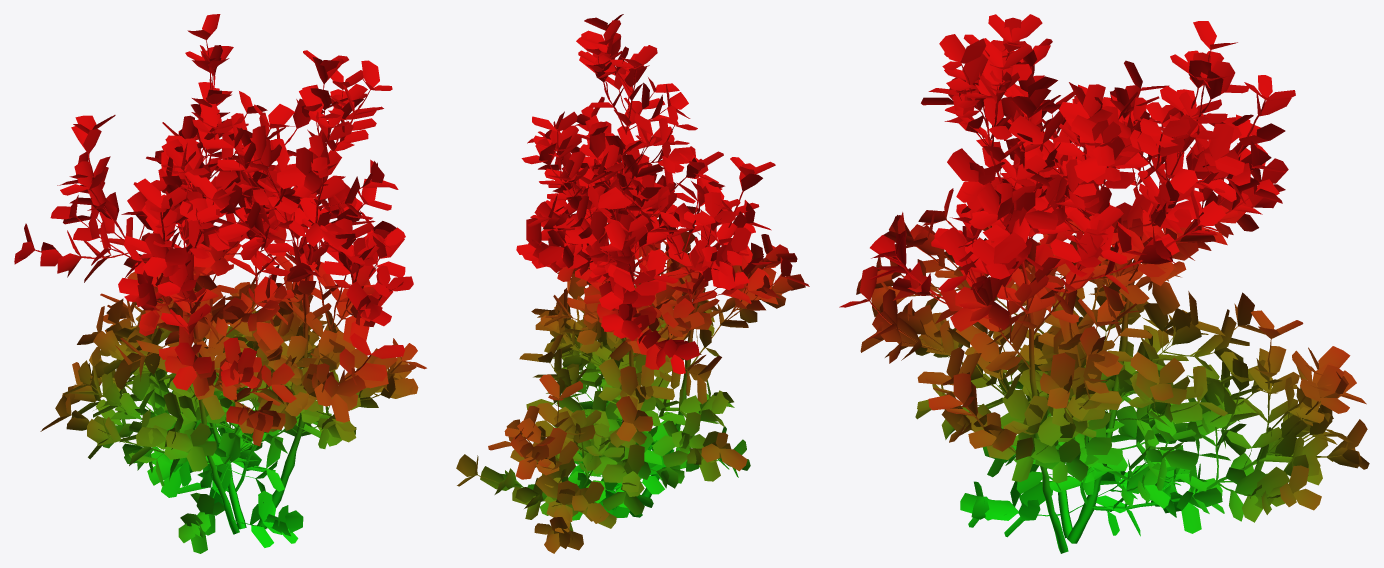
The model's file is Var9_LOD3.fbx.
The picture shows the model from 3 angles, left to right: view 1: azimuth 30°, elevation 25°; view 2: azimuth 150°, elevation 25°; view 3: azimuth 270°, elevation 25°; orthographic projection. The views are drawn at different scales.
Parts seen in each view (by area): view 1: _1p7g_Var9_LOD3; view 2: _1p7g_Var9_LOD3; view 3: _1p7g_Var9_LOD3.
Boxes of the visible parts, left/top/right/bottom form: _1p7g_Var9_LOD3: left=14, top=14, right=426, bottom=553; _1p7g_Var9_LOD3: left=456, top=14, right=809, bottom=553; _1p7g_Var9_LOD3: left=839, top=14, right=1369, bottom=553.
Bounding box in the file's own units: 30.29 × 46.69 × 40.34.
